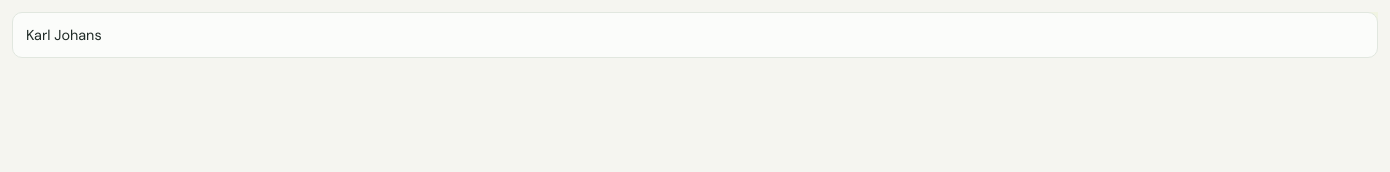
Scenario: AddressAutocomplete › reports failed lookups while allowing manual input
Step 1. Click the field with placeholder "Skriv gate eller sted, f.eks. Karl Johans gate" → (695, 35), box [12,12,1378,58]
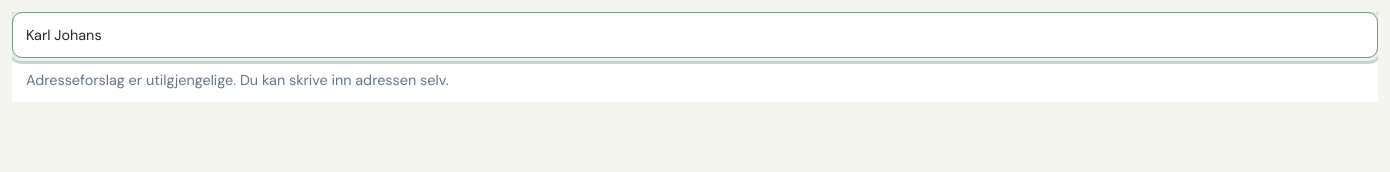
Result: the message shows "Du kan skrive inn adressen selv" at [26,71,448,89]
Step 2. Type " 42" into the field with placeholder "Skriv gate eller sted, f.eks. Karl Johans gate" → (695, 35), box [12,12,1378,58]
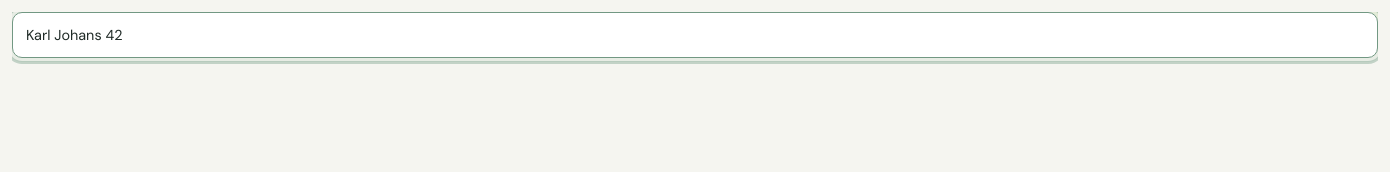
Result: the field with placeholder "Skriv gate eller sted, f.eks. Karl Johans gate" holds "Karl Johans 42" at [12,12,1378,58]
Result: the message "Adresseforslag er utilgjengelige. Du kan skrive inn adressen selv." is gone
